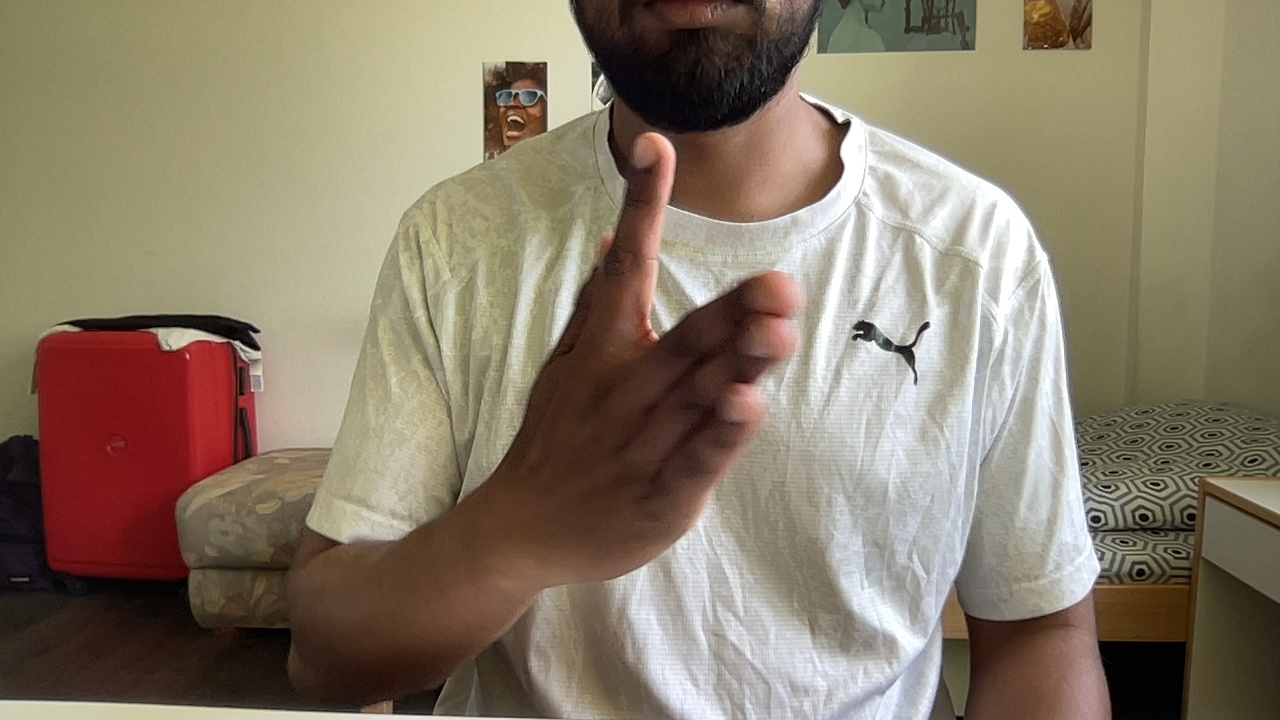LiveLong: (522, 132, 802, 585)
